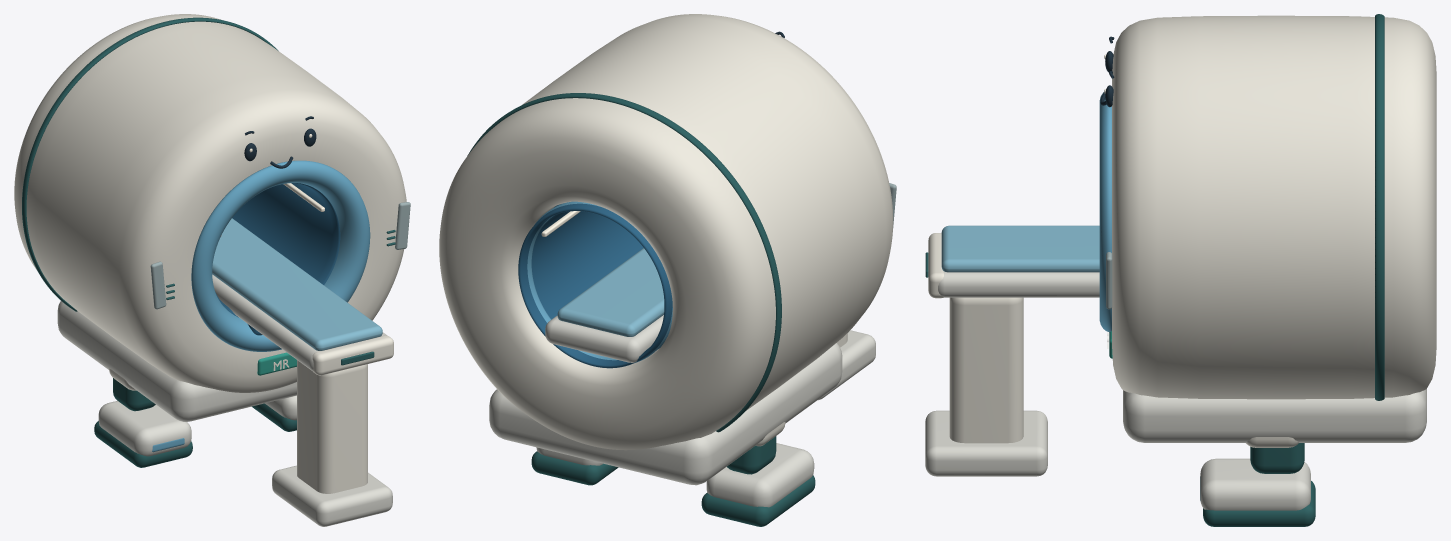
Rendered from companion.glb.
The picture shows the model from 3 angles, left to right: view 1: azimuth 30°, elevation 25°; view 2: azimuth 150°, elevation 25°; view 3: azimuth 270°, elevation 25°; orthographic projection. The views are drawn at different scales.
Parts seen in each view (by area): view 1: MRFoundry | Warm ceramic shell, MRFoundry | Ceramic edge and bed, MRFoundry | Powder blue bore, MRFoundry | Bed cushion, MRFoundry | Inner bore blue, MRFoundry | Deep teal joints, MRFoundry | Brushed warm metal, MRFoundry | Foundry teal, MRFoundry | Eyes and dark details; view 2: MRFoundry | Warm ceramic shell, MRFoundry | Ceramic edge and bed, MRFoundry | Inner bore blue, MRFoundry | Deep teal joints, MRFoundry | Bed cushion, MRFoundry | Powder blue bore; view 3: MRFoundry | Warm ceramic shell, MRFoundry | Ceramic edge and bed, MRFoundry | Bed cushion, MRFoundry | Deep teal joints, MRFoundry | Powder blue bore.
Part boxes in pixels (left/top/right/bottom): MRFoundry | Warm ceramic shell: left=14, top=14, right=406, bottom=493; MRFoundry | Ceramic edge and bed: left=57, top=274, right=392, bottom=526; MRFoundry | Powder blue bore: left=152, top=160, right=370, bottom=452; MRFoundry | Bed cushion: left=212, top=218, right=382, bottom=350; MRFoundry | Inner bore blue: left=215, top=183, right=340, bottom=335; MRFoundry | Deep teal joints: left=22, top=17, right=395, bottom=467; MRFoundry | Brushed warm metal: left=150, top=202, right=410, bottom=309; MRFoundry | Foundry teal: left=257, top=352, right=296, bottom=375; MRFoundry | Eyes and dark details: left=244, top=116, right=316, bottom=168; MRFoundry | Warm ceramic shell: left=439, top=14, right=893, bottom=450; MRFoundry | Ceramic edge and bed: left=489, top=315, right=875, bottom=507; MRFoundry | Inner bore blue: left=518, top=203, right=672, bottom=368; MRFoundry | Deep teal joints: left=467, top=93, right=815, bottom=526; MRFoundry | Bed cushion: left=557, top=248, right=664, bottom=336; MRFoundry | Powder blue bore: left=527, top=201, right=672, bottom=362; MRFoundry | Warm ceramic shell: left=928, top=15, right=1436, bottom=447; MRFoundry | Ceramic edge and bed: left=925, top=271, right=1426, bottom=510; MRFoundry | Bed cushion: left=941, top=225, right=1099, bottom=272; MRFoundry | Deep teal joints: left=925, top=14, right=1384, bottom=526; MRFoundry | Powder blue bore: left=1099, top=92, right=1200, bottom=500.
Bounding box in the file's own units: 0.6494 × 0.8 × 0.8446.
